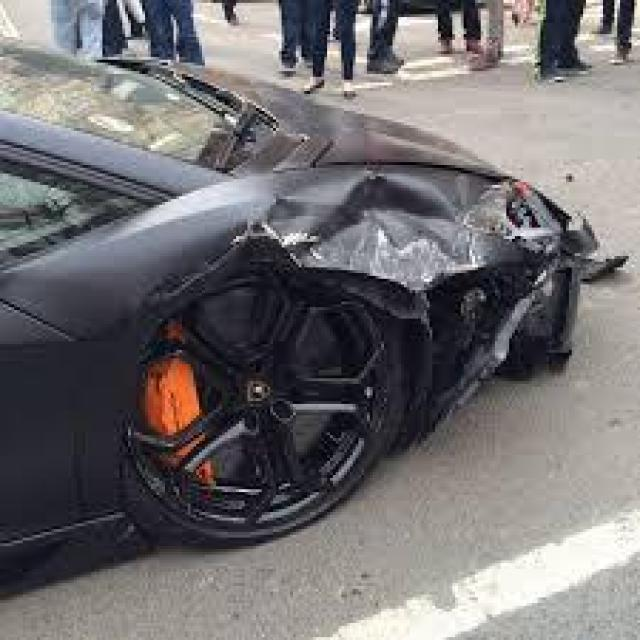damaged: (151, 170, 606, 438)
